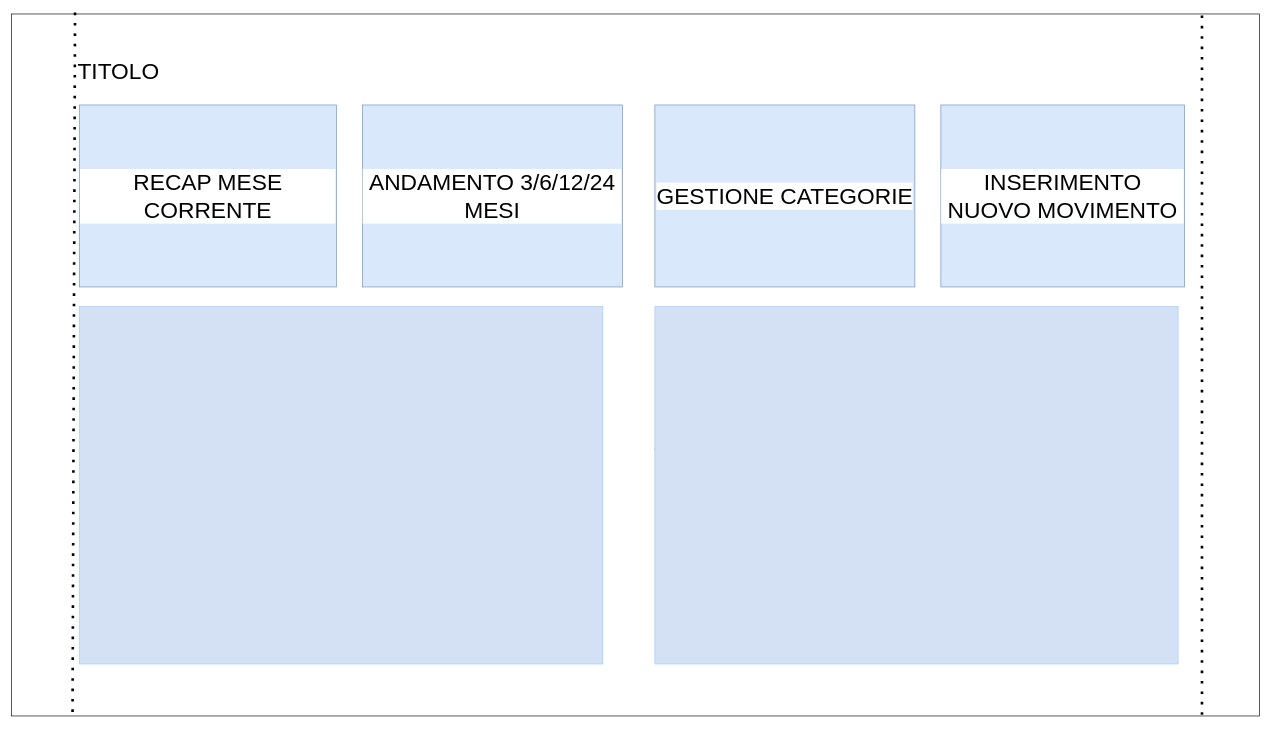
The diagram is 1271 pixels wide and 732 high, and some of its shapes have lost their labels. Here are the shapes that lost their labels. From the top down, the centre of each, then its label:
At (x=341, y=485): "VISTA BUDGETING ANNUALE CATEGORIE".
At (x=916, y=485): "LISTA MOVIMENTI".
